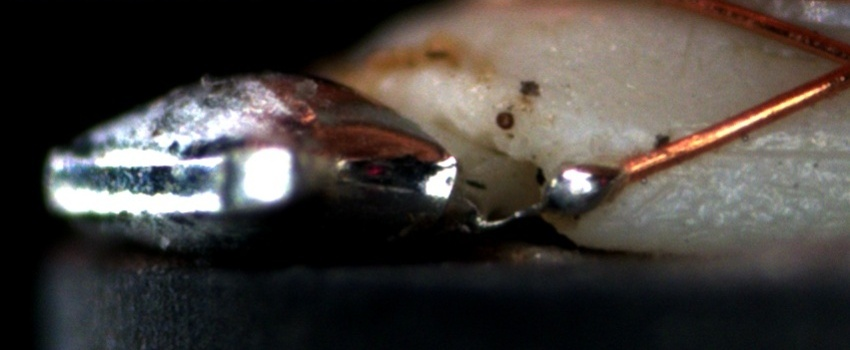CL: (808, 27, 849, 94)
DL: (709, 122, 849, 181)
TB: (530, 153, 625, 225)
TS: (478, 169, 629, 232)
TTCW: (475, 141, 673, 232)
